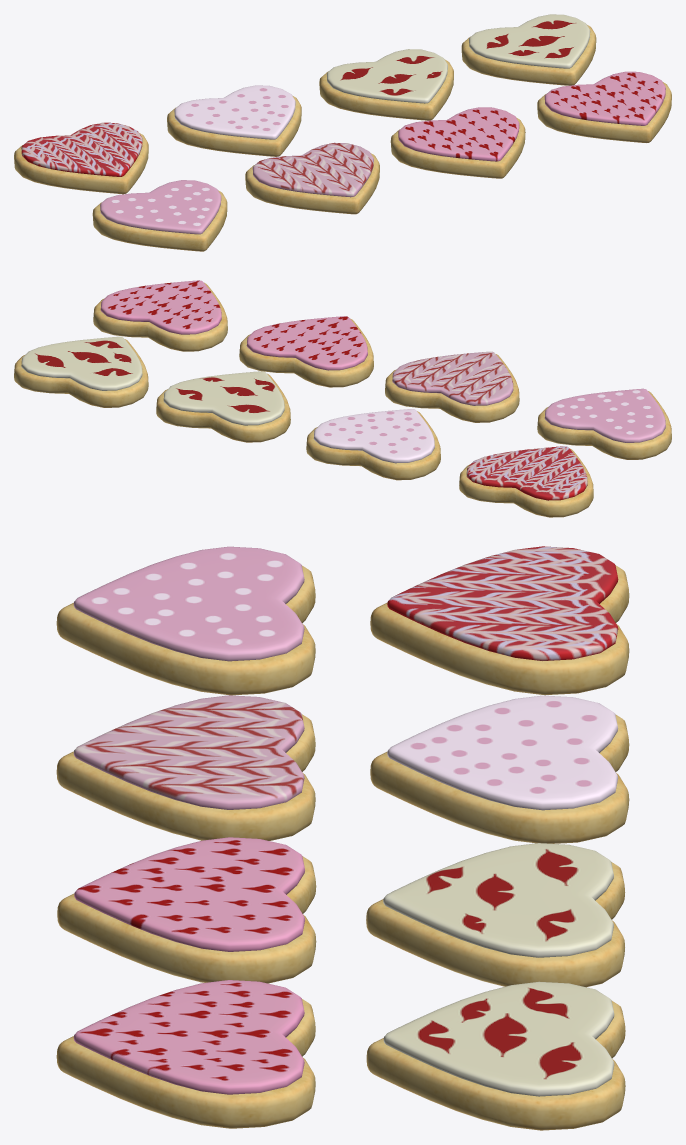
File: valentines_cookies_8_fbx.glb
The picture shows the model from 3 angles, top to bottom: view 1: azimuth 30°, elevation 25°; view 2: azimuth 150°, elevation 25°; view 3: azimuth 270°, elevation 25°; orthographic projection. The views are drawn at different scales.
Parts seen in each view (by area): view 1: Pink_Polka_Dots_Cookie_1_8_Variety_Valentine's_Heart_Cookies, Lips_Cookie_2, Red_Heart_Cookie, White_Polka_Dots_Cookie_1_8_Variety_Valentine's_Heart_Cookie, Little_Hearts_Cookie_2, Lips_Cookie_1, Pink_Heart_Cookie, Little_Hearts_Cookie_1; view 2: Lips_Cookie_1, Little_Hearts_Cookie_2, Red_Heart_Cookie, Lips_Cookie_2, Little_Hearts_Cookie_1, Pink_Heart_Cookie, Pink_Polka_Dots_Cookie_1_8_Variety_Valentine's_Heart_Cookies, White_Polka_Dots_Cookie_1_8_Variety_Valentine's_Heart_Cookie; view 3: Little_Hearts_Cookie_1, White_Polka_Dots_Cookie_1_8_Variety_Valentine's_Heart_Cookie, Red_Heart_Cookie, Pink_Polka_Dots_Cookie_1_8_Variety_Valentine's_Heart_Cookies, Lips_Cookie_2, Little_Hearts_Cookie_2, Pink_Heart_Cookie, Lips_Cookie_1.
Part boxes in pixels (bbox=[...]): Pink_Polka_Dots_Cookie_1_8_Variety_Valentine's_Heart_Cookies: bbox=[167, 85, 301, 156]; Lips_Cookie_2: bbox=[461, 14, 596, 85]; Red_Heart_Cookie: bbox=[14, 122, 148, 194]; White_Polka_Dots_Cookie_1_8_Variety_Valentine's_Heart_Cookie: bbox=[92, 180, 227, 251]; Little_Hearts_Cookie_2: bbox=[390, 107, 525, 178]; Lips_Cookie_1: bbox=[319, 49, 453, 120]; Pink_Heart_Cookie: bbox=[245, 142, 379, 214]; Little_Hearts_Cookie_1: bbox=[537, 71, 671, 142]; Lips_Cookie_1: bbox=[156, 371, 290, 442]; Little_Hearts_Cookie_2: bbox=[239, 316, 373, 387]; Red_Heart_Cookie: bbox=[459, 446, 593, 517]; Lips_Cookie_2: bbox=[14, 336, 148, 407]; Little_Hearts_Cookie_1: bbox=[93, 280, 227, 351]; Pink_Heart_Cookie: bbox=[385, 351, 519, 422]; Pink_Polka_Dots_Cookie_1_8_Variety_Valentine's_Heart_Cookies: bbox=[306, 409, 440, 480]; White_Polka_Dots_Cookie_1_8_Variety_Valentine's_Heart_Cookie: bbox=[537, 388, 671, 459]; Little_Hearts_Cookie_1: bbox=[56, 980, 315, 1128]; White_Polka_Dots_Cookie_1_8_Variety_Valentine's_Heart_Cookie: bbox=[56, 546, 315, 695]; Red_Heart_Cookie: bbox=[370, 546, 629, 695]; Pink_Polka_Dots_Cookie_1_8_Variety_Valentine's_Heart_Cookies: bbox=[370, 695, 629, 843]; Lips_Cookie_2: bbox=[366, 981, 625, 1130]; Little_Hearts_Cookie_2: bbox=[57, 837, 316, 983]; Pink_Heart_Cookie: bbox=[56, 695, 315, 840]; Lips_Cookie_1: bbox=[366, 843, 625, 987].
Size of the model in its own units: 0.3763 by 0.0133 by 0.1639.
Materials: 1 (1 with a texture image).
